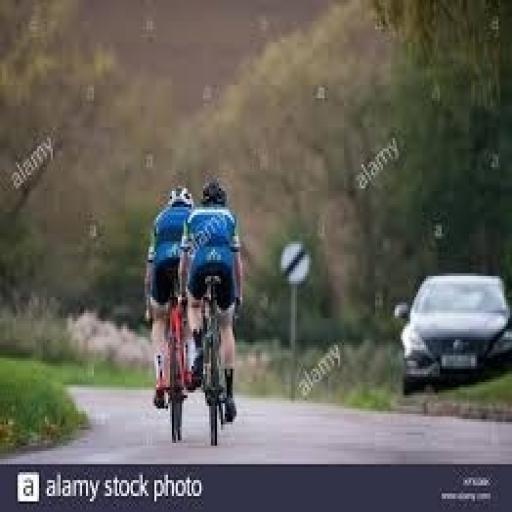cycling: (176, 178, 246, 427), (143, 183, 197, 411)
